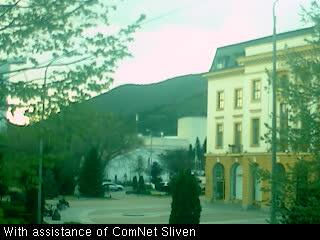person: (105, 184, 110, 195)
